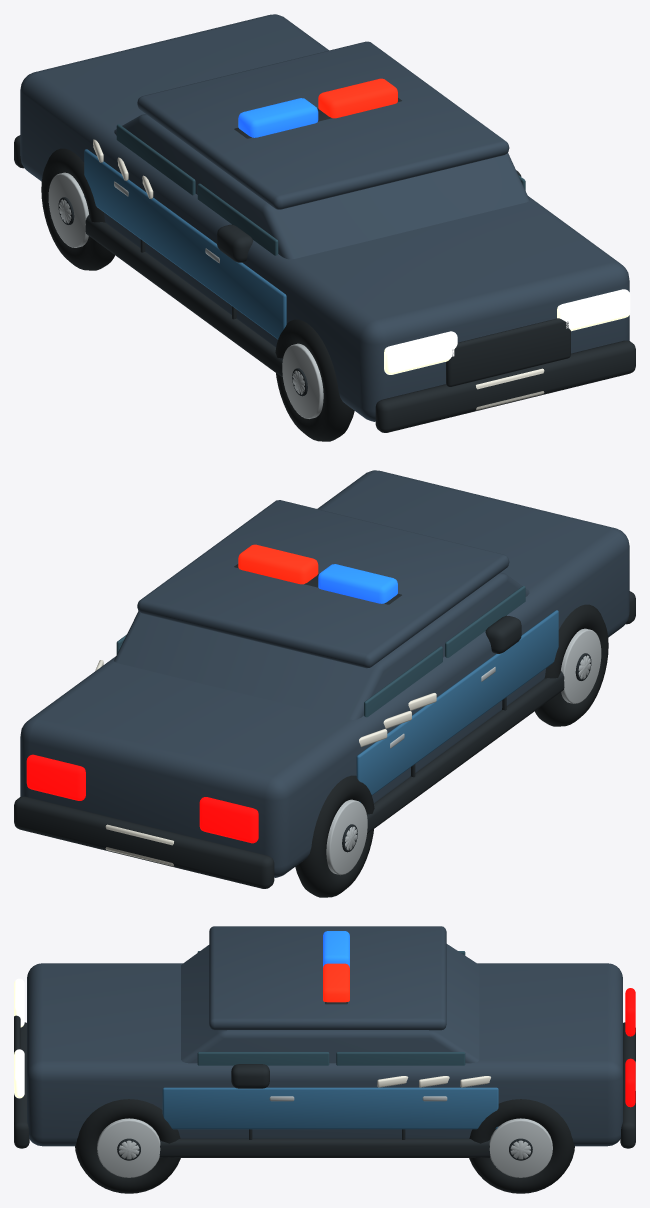
Rendered from jmpd-interceptor.glb.
3 renders of one model, top to bottom at view 1: azimuth 30°, elevation 25°; view 2: azimuth 150°, elevation 25°; view 3: azimuth 270°, elevation 25°, orthographic. The views are drawn at different scales.
Visible parts, largest first — view 1: body, roof, cabin_shell, jmpd_panel_left, bumper_front, grille_surround, side_skirt_left, wheel_fl_tire, wheel_rl_tire, lightbar_blue, lightbar_red, headlight_left (+7 smaller); view 2: body, roof, cabin_shell, jmpd_panel_left, bumper_rear, side_skirt_left, wheel_rl_tire, wheel_fl_tire, lightbar_red, lightbar_blue, brakelight_left, brakelight_right (+6 smaller); view 3: body, roof, jmpd_panel_right, cabin_shell, side_skirt_right, wheel_fr_tire, wheel_rr_tire, wheel_fr_rim, wheel_rr_rim, window_right_rear, window_right_front, bumper_rear (+8 smaller).
Part boxes in pixels (x1,y1,x2,y2): body: [20, 14, 629, 421]; roof: [137, 41, 509, 209]; cabin_shell: [114, 114, 529, 259]; jmpd_panel_left: [84, 149, 286, 339]; bumper_front: [375, 340, 635, 432]; grille_surround: [446, 318, 570, 386]; side_skirt_left: [85, 215, 282, 377]; wheel_fl_tire: [275, 319, 354, 441]; wheel_rl_tire: [41, 148, 114, 270]; lightbar_blue: [238, 98, 318, 137]; lightbar_red: [318, 78, 397, 118]; headlight_left: [384, 331, 457, 374]; body: [20, 470, 629, 877]; roof: [137, 500, 509, 668]; cabin_shell: [114, 572, 529, 719]; jmpd_panel_left: [356, 610, 558, 802]; bumper_rear: [14, 796, 274, 888]; side_skirt_left: [367, 671, 564, 833]; wheel_rl_tire: [295, 775, 374, 897]; wheel_fl_tire: [535, 604, 608, 726]; lightbar_red: [238, 544, 318, 584]; lightbar_blue: [318, 564, 397, 603]; brakelight_left: [199, 797, 258, 843]; brakelight_right: [26, 754, 85, 800]; body: [27, 963, 622, 1146]; roof: [209, 926, 446, 1030]; jmpd_panel_right: [162, 1087, 498, 1129]; cabin_shell: [181, 944, 479, 1063]; side_skirt_right: [159, 1138, 490, 1157]; wheel_fr_tire: [75, 1099, 180, 1193]; wheel_rr_tire: [469, 1099, 574, 1193]; wheel_fr_rim: [97, 1118, 160, 1177]; wheel_rr_rim: [489, 1118, 552, 1177]; window_right_rear: [336, 1052, 465, 1065]; window_right_front: [197, 1052, 329, 1065]; bumper_rear: [620, 1022, 635, 1148].
Bounding box in the file's own units: 1.95 × 1.4 × 4.35.
